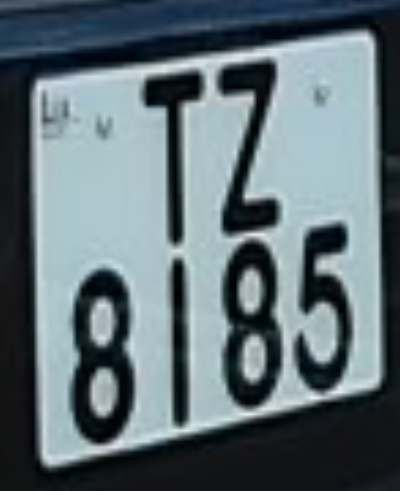1: (144, 246, 215, 431)
5: (286, 211, 359, 402)
8: (46, 249, 150, 449), (200, 233, 295, 410)
T: (134, 64, 216, 255)
Z: (207, 54, 293, 247)
